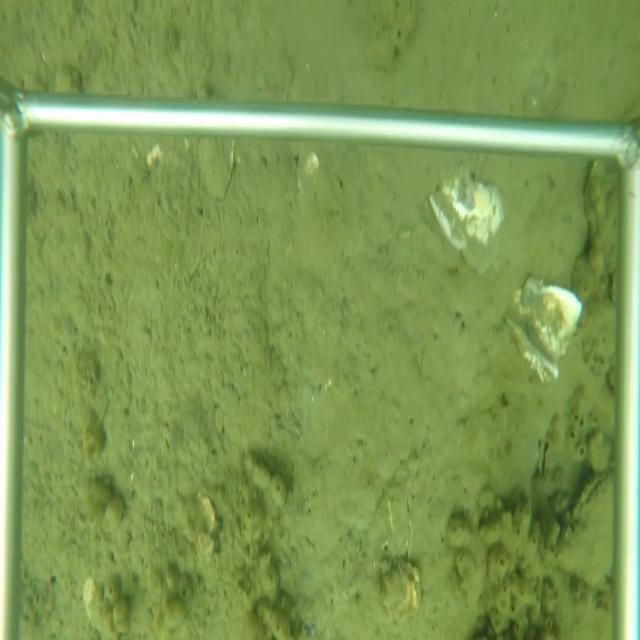Oyster-Closed: (547, 463, 614, 590)
